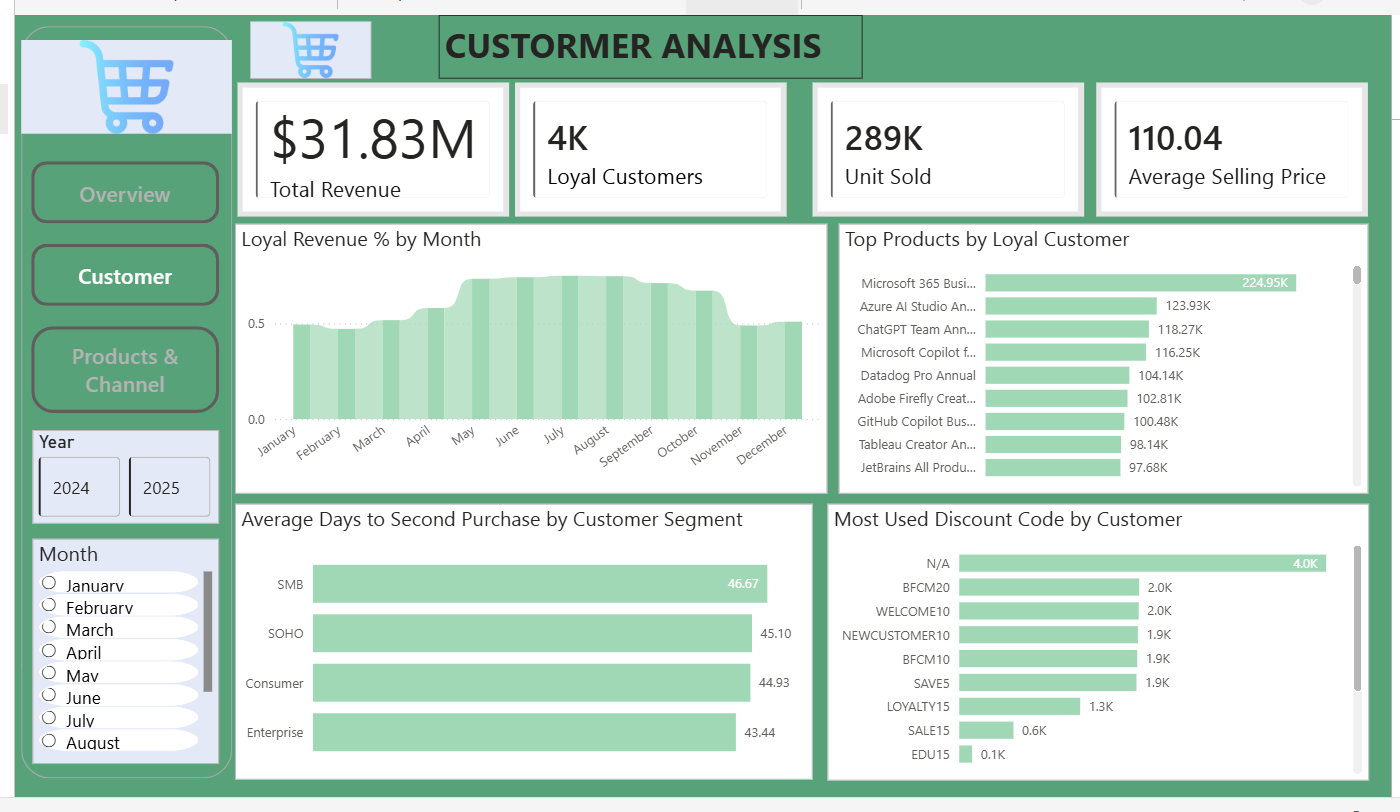

The page's visual inventory and layout, read from the dashboard file:
{"tool":"powerbi","page":{"name":"Customer","canvas":[1280,720],"ordinal":1},"visuals":[{"type":"shape","box":[5.5,11,196.2,699.8],"z":0},{"type":"cardVisual","title":"Total Revenue","fields":{"Data":["_Measure.Total Revenue"]},"box":[207.1,63.2,252.8,125.1],"z":1000},{"type":"cardVisual","title":"Total Revenue","fields":{"Data":["_Measure.Loyal Customers"]},"box":[465.3,63.2,252.8,125.1],"z":2000},{"type":"cardVisual","title":"Total Revenue","fields":{"Data":["_Measure.Unit Sold"]},"box":[742.3,63.2,252.8,125.1],"z":3000},{"type":"cardVisual","title":"Total Revenue","fields":{"Data":["_Measure.Average Selling Price"]},"box":[1005.9,63.2,252.8,125.1],"z":4000},{"type":"ribbonChart","title":"Loyal Revenue % by Month","fields":{"Category":["Events.Month Name"],"Y":["_Measure.Loyal Revenue %"]},"box":[204.7,193.8,551.4,251.1],"z":5000},{"type":"clusteredBarChart","title":"Top Products by Loyal Customer","fields":{"Y":["_Measure.Loyal Customer Revenue"],"Category":["Products.product_name"]},"box":[767.1,193.8,492.7,251.1],"z":6000},{"type":"barChart","title":"Average Days to Second Purchase by Customer Segment","fields":{"Category":["Customers.segment"],"Y":["_Measure.Average Days to Second Purchase"]},"box":[204.7,454.5,537.8,256.6],"z":7000},{"type":"barChart","title":"Most Used Discount Code by Customer","fields":{"Category":["Events.discount_code"],"Y":["_Measure.Customers per Discount Code"]},"box":[756.2,454.5,503.6,258],"z":8000},{"type":"image","box":[219.2,5.4,113,53.8],"z":9000},{"type":"textbox","box":[394,0,394,59.2],"z":10000},{"type":"image","box":[5.4,22.9,196.3,87.4],"z":11000},{"type":"actionButton","box":[14.8,135.8,174.8,57.8],"z":12000},{"type":"actionButton","box":[14.8,212.5,174.8,57.8],"z":13000},{"type":"actionButton","box":[14.8,289.1,174.8,80.7],"z":14000},{"type":"advancedSlicerVisual","fields":{"Values":["Events.Year"]},"box":[16.1,386,173.5,87.4],"z":15000},{"type":"listSlicer","title":"Month","fields":{"Values":["Events.Month Name"]},"box":[16.1,486.8,173.5,209.8],"z":16000}]}

Visuals, with their boxes in screenshot pixels (x1, y1, x2, y2):
shape: detection(13, 23, 225, 778)
"Total Revenue" cardVisual: detection(231, 79, 503, 214)
"Total Revenue" cardVisual: detection(509, 79, 782, 214)
"Total Revenue" cardVisual: detection(808, 79, 1081, 214)
"Total Revenue" cardVisual: detection(1092, 79, 1365, 214)
"Loyal Revenue % by Month" ribbonChart: detection(228, 220, 823, 491)
"Top Products by Loyal Customer" clusteredBarChart: detection(835, 220, 1366, 491)
"Average Days to Second Purchase by Customer Segment" barChart: detection(228, 501, 808, 778)
"Most Used Discount Code by Customer" barChart: detection(823, 501, 1366, 779)
image: detection(244, 17, 366, 75)
textbox: detection(432, 11, 857, 75)
image: detection(13, 36, 225, 130)
actionButton: detection(23, 157, 212, 220)
actionButton: detection(23, 240, 212, 302)
actionButton: detection(23, 323, 212, 410)
advancedSlicerVisual - Events.Year: detection(25, 427, 212, 522)
"Month" listSlicer: detection(25, 536, 212, 762)
